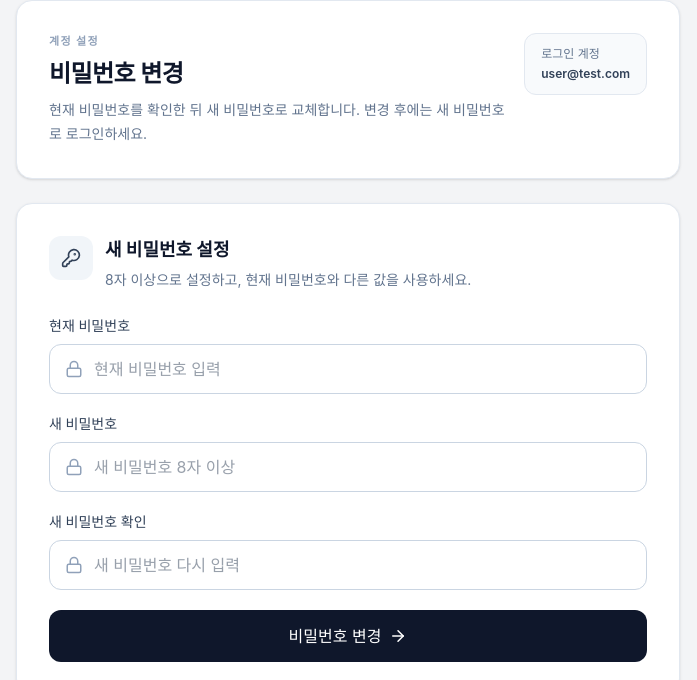
Scenario: ChangePassword › shows error when current password is missing
The image size is (697, 680).
In the password field with placeholder "새 비밀번호 8자 이상": (348, 466) top-left (49, 442), bottom-right (647, 492), type "NewPass123!"
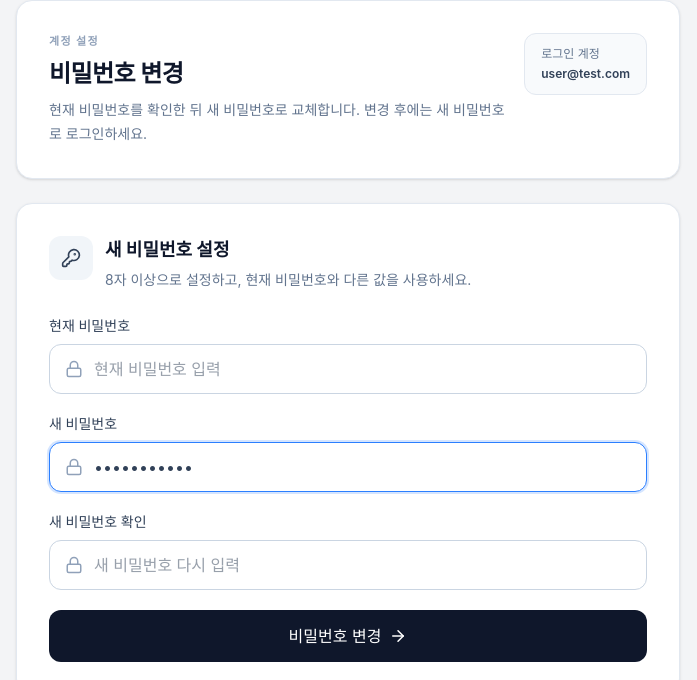
In the password field with placeholder "새 비밀번호 다시 입력": (348, 564) top-left (49, 540), bottom-right (647, 590), type "NewPass123!"
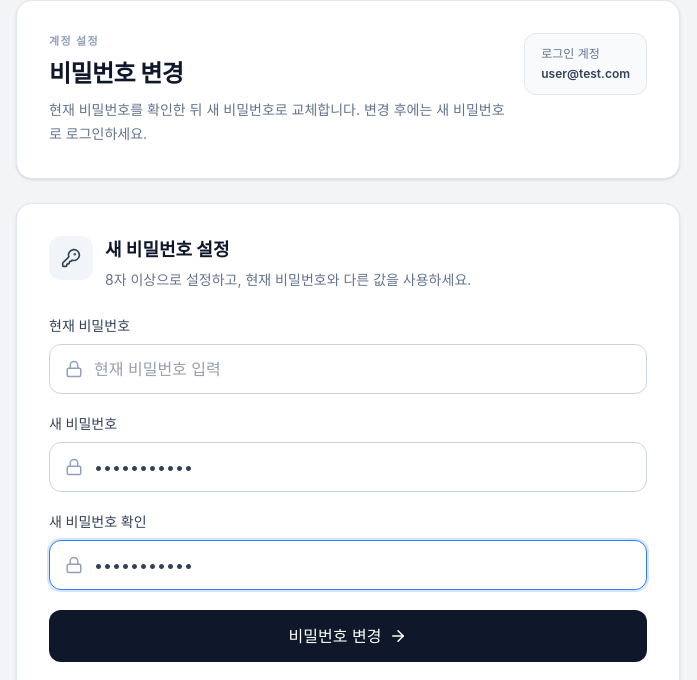
Click the button "비밀번호 변경": (348, 636) top-left (49, 610), bottom-right (647, 662)
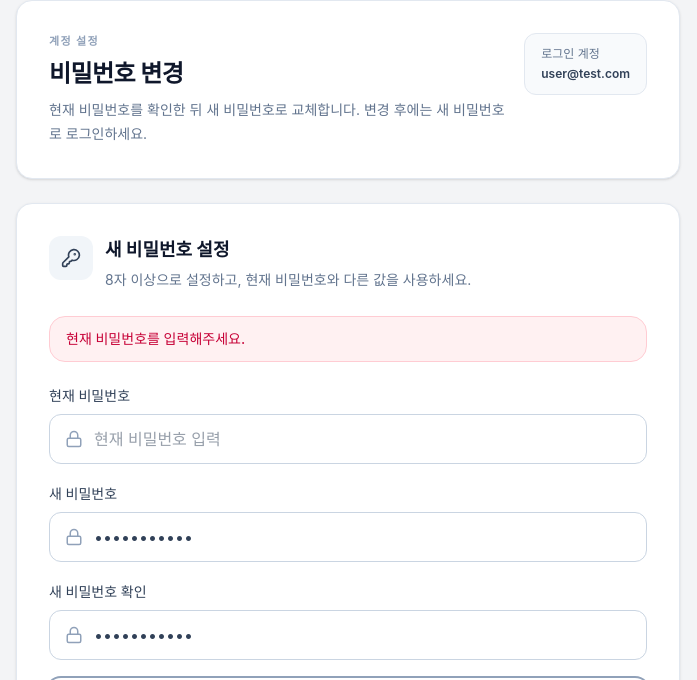
Expected: the text "현재 비밀번호를 입력해주세요." is shown, top-left (49, 316), bottom-right (647, 362)
